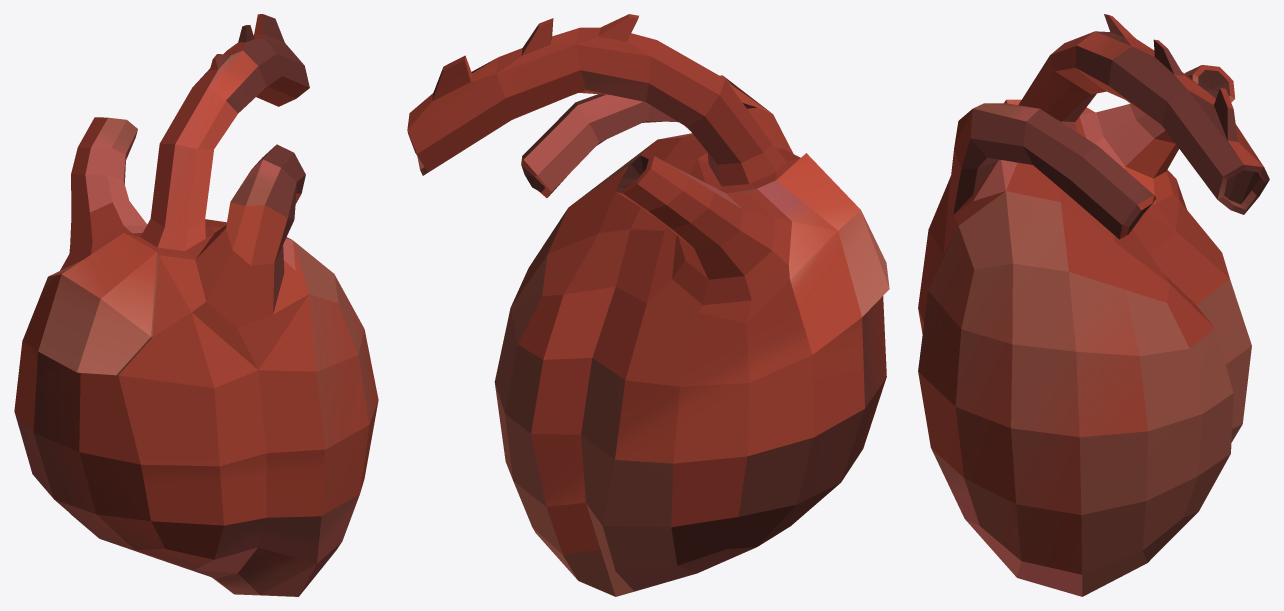
File: Int_ScienceHeart01.fbx
3 renders of one model, left to right at view 1: azimuth 30°, elevation 25°; view 2: azimuth 150°, elevation 25°; view 3: azimuth 270°, elevation 25°, orthographic. The views are drawn at different scales.
Parts seen in each view (by area): view 1: Int_ScienceHeart01; view 2: Int_ScienceHeart01; view 3: Int_ScienceHeart01.
Boxes of the visible parts, x1=… form: Int_ScienceHeart01: x1=14, y1=14, x2=378, y2=596; Int_ScienceHeart01: x1=407, y1=14, x2=889, y2=596; Int_ScienceHeart01: x1=918, y1=14, x2=1269, y2=596.
Size of what is drawn, in the model's own units: 10 by 8.5 by 15.
